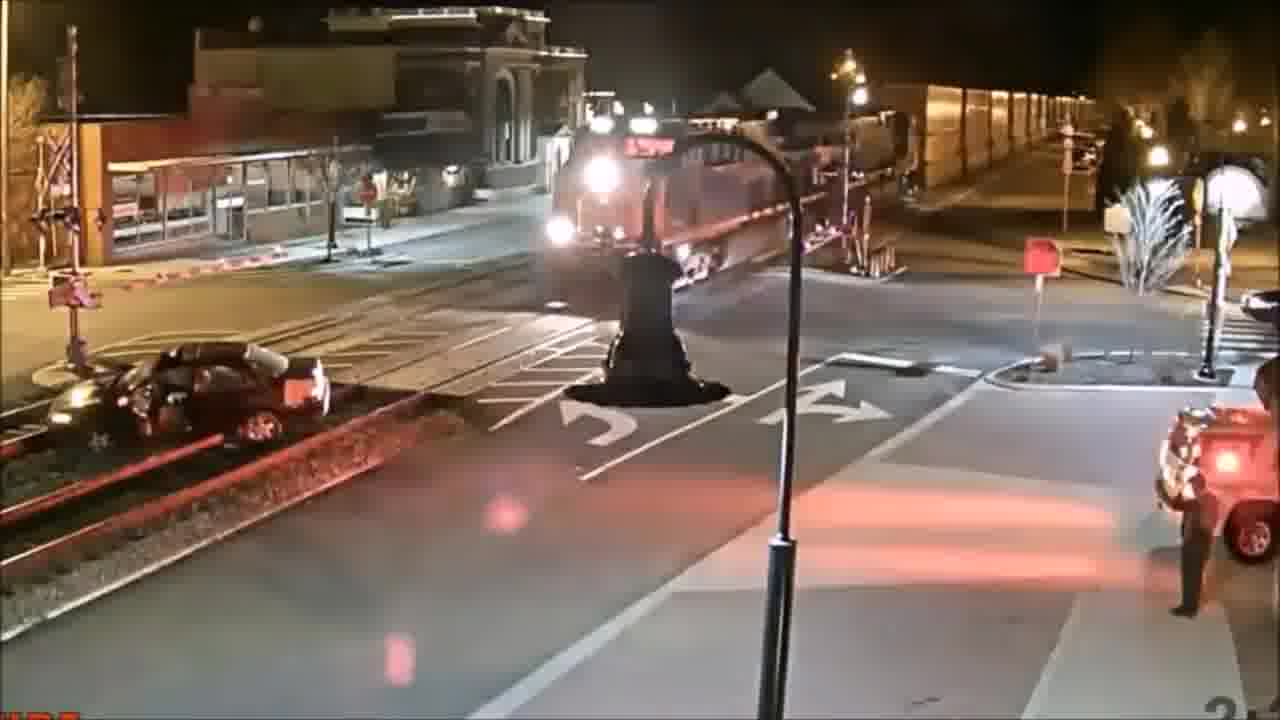crossing railway track: (33, 340, 338, 470)
